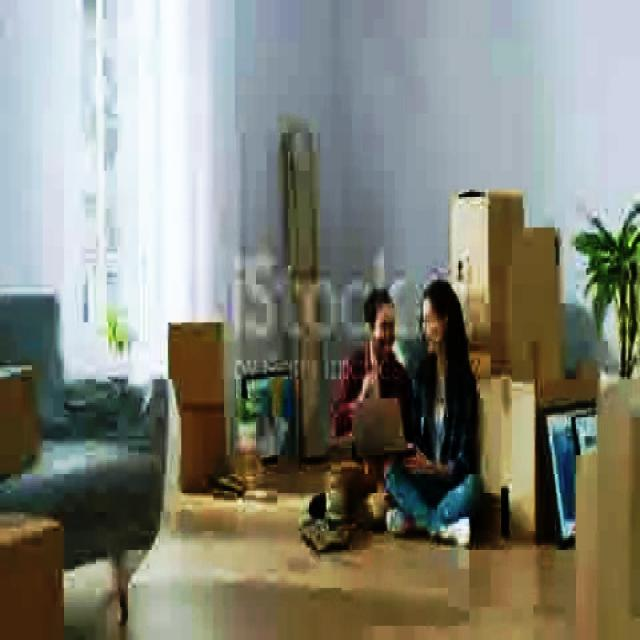Box: (456, 185, 533, 351), (178, 405, 238, 493), (165, 320, 227, 398)
